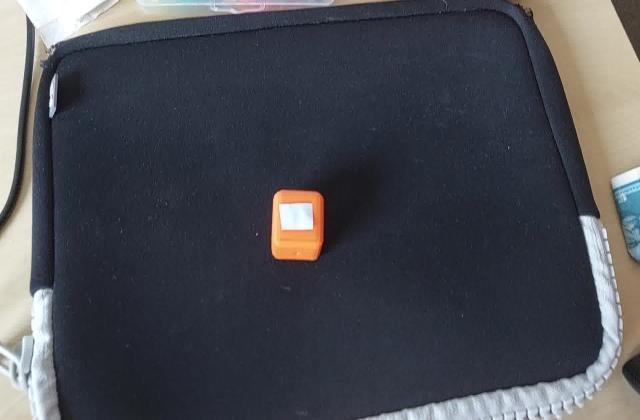sticker: (268, 189, 326, 264)
white: (275, 200, 316, 232)
